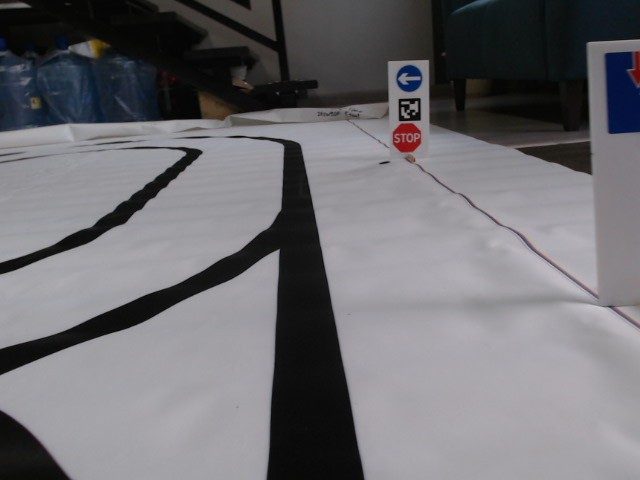Stop: (391, 122, 422, 153)
